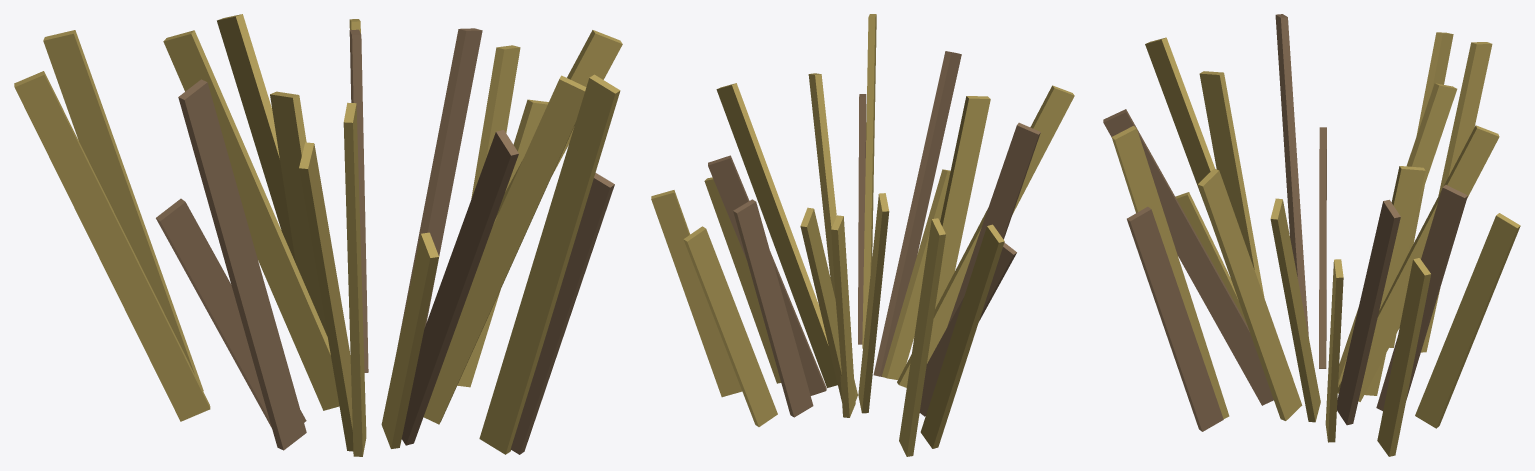
The model's file is buisson_desert_1.glb.
The picture shows the model from 3 angles, left to right: view 1: azimuth 30°, elevation 25°; view 2: azimuth 150°, elevation 25°; view 3: azimuth 270°, elevation 25°; orthographic projection. The views are drawn at different scales.
Visible parts, largest first — view 1: herbe_herbe_seche.004, herbe_bois_sec.002; view 2: herbe_herbe_seche.004, herbe_bois_sec.002; view 3: herbe_herbe_seche.004, herbe_bois_sec.002.
Boxes of the visible parts, x1,y1,x2,y2 form: herbe_herbe_seche.004: (14, 14, 622, 456); herbe_bois_sec.002: (156, 28, 614, 454); herbe_herbe_seche.004: (651, 14, 1074, 456); herbe_bois_sec.002: (708, 51, 1040, 417); herbe_herbe_seche.004: (1111, 32, 1520, 456); herbe_bois_sec.002: (1103, 14, 1467, 431).
Bounding box in the file's own units: 0.6144 × 0.4759 × 0.5694.
